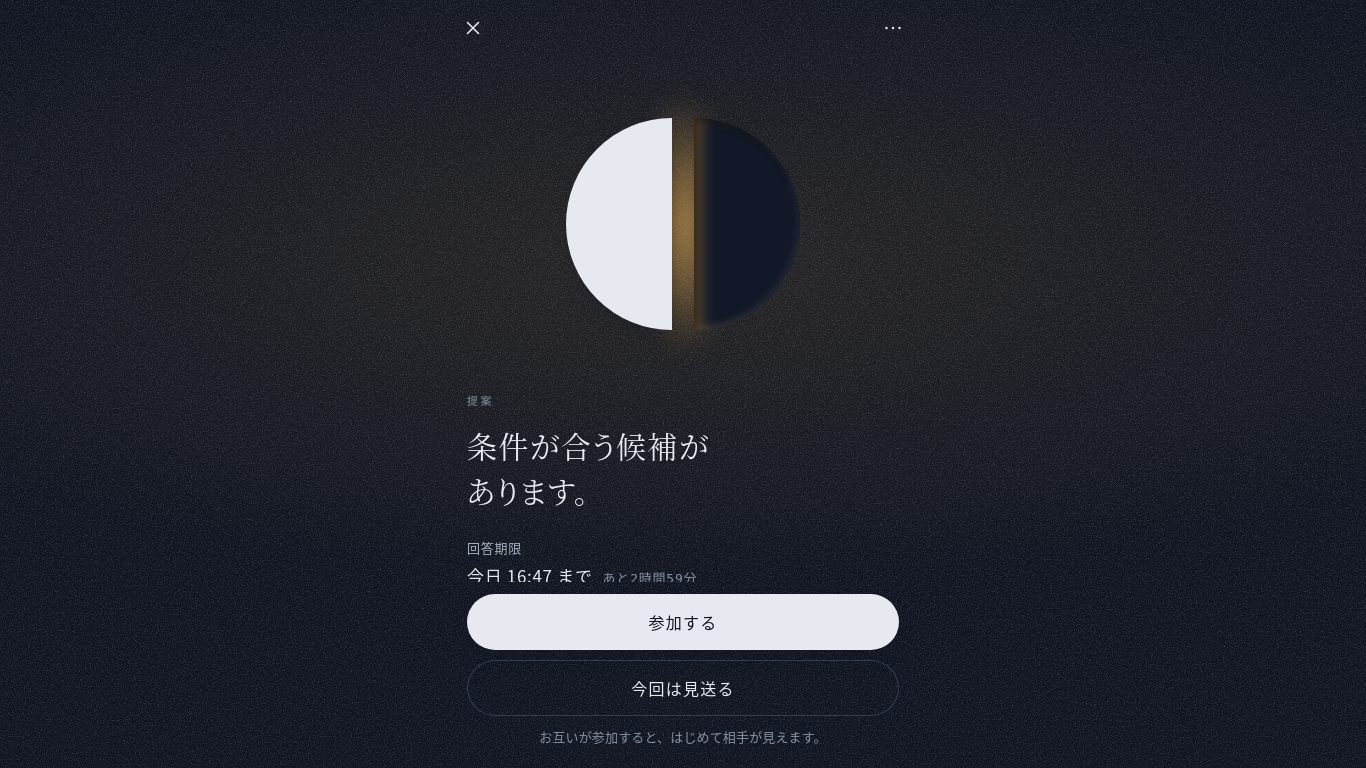
Test: LatchScreen › 参加するでyesだけなら回答待ちになる
The image size is (1366, 768).
Step 1. Click the button "参加する" → coordinates (683, 622), box [467,594,899,650]
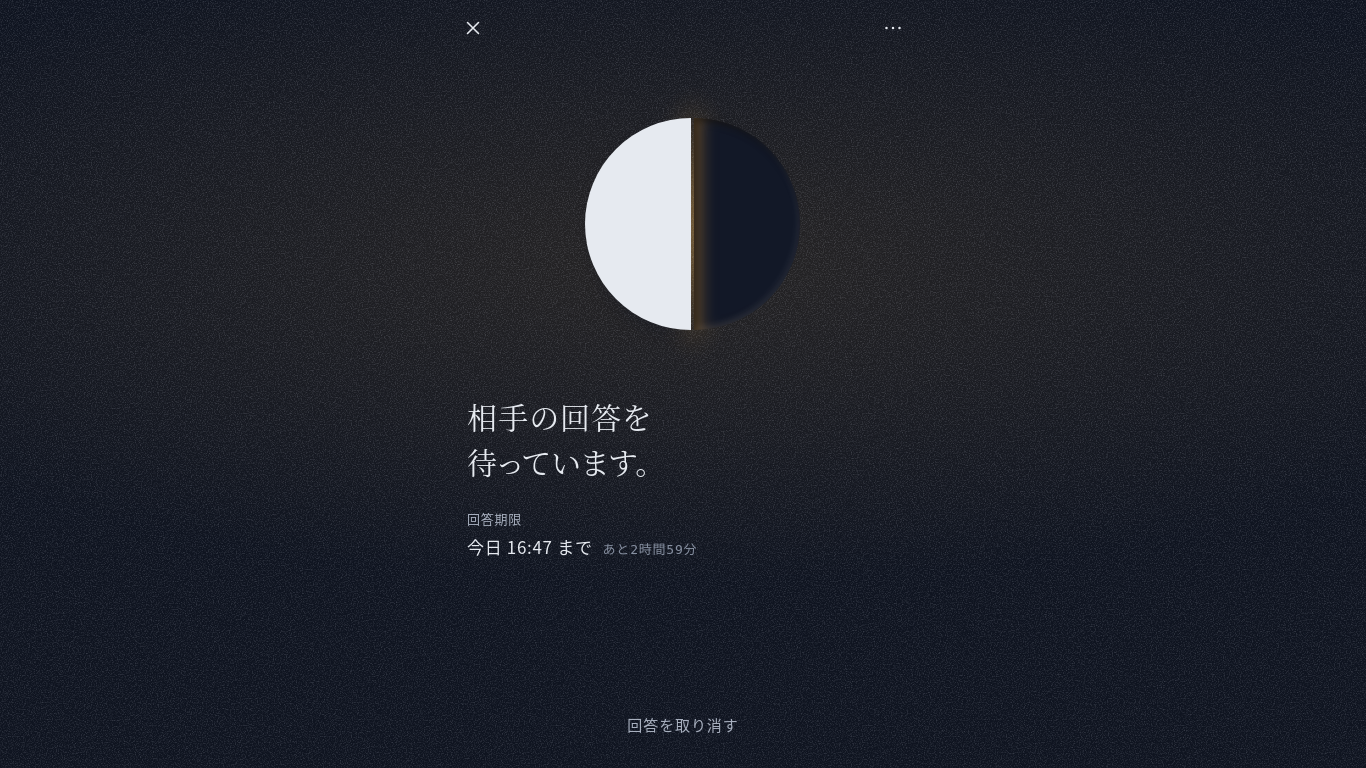
expect the button "回答を取り消す" is shown: met, box [467,700,899,748]
